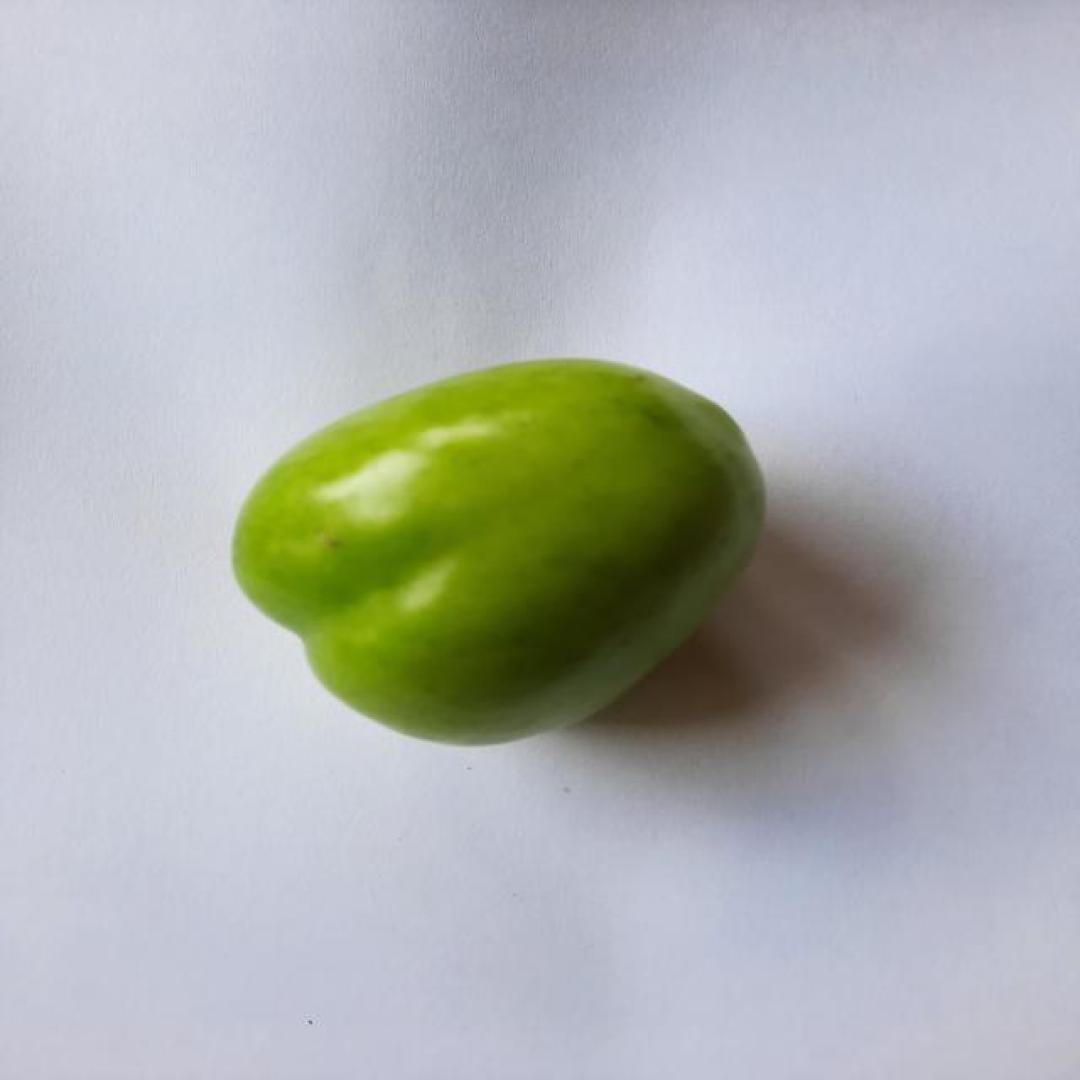mentah: (231, 358, 770, 749)
